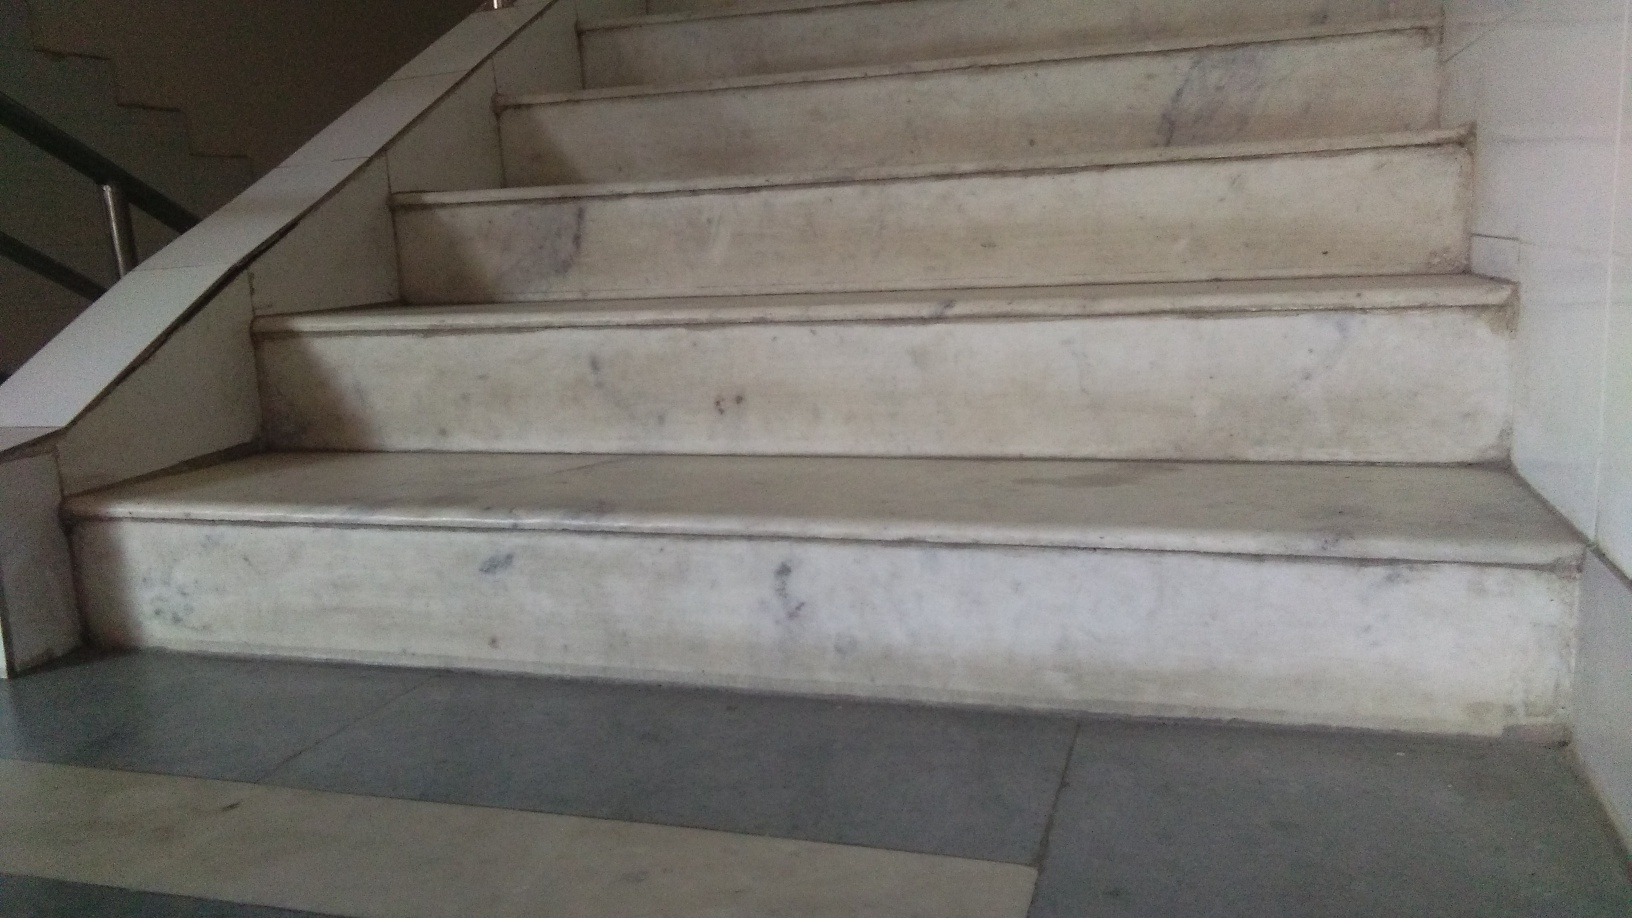stairs_up: (86, 9, 1574, 725)
